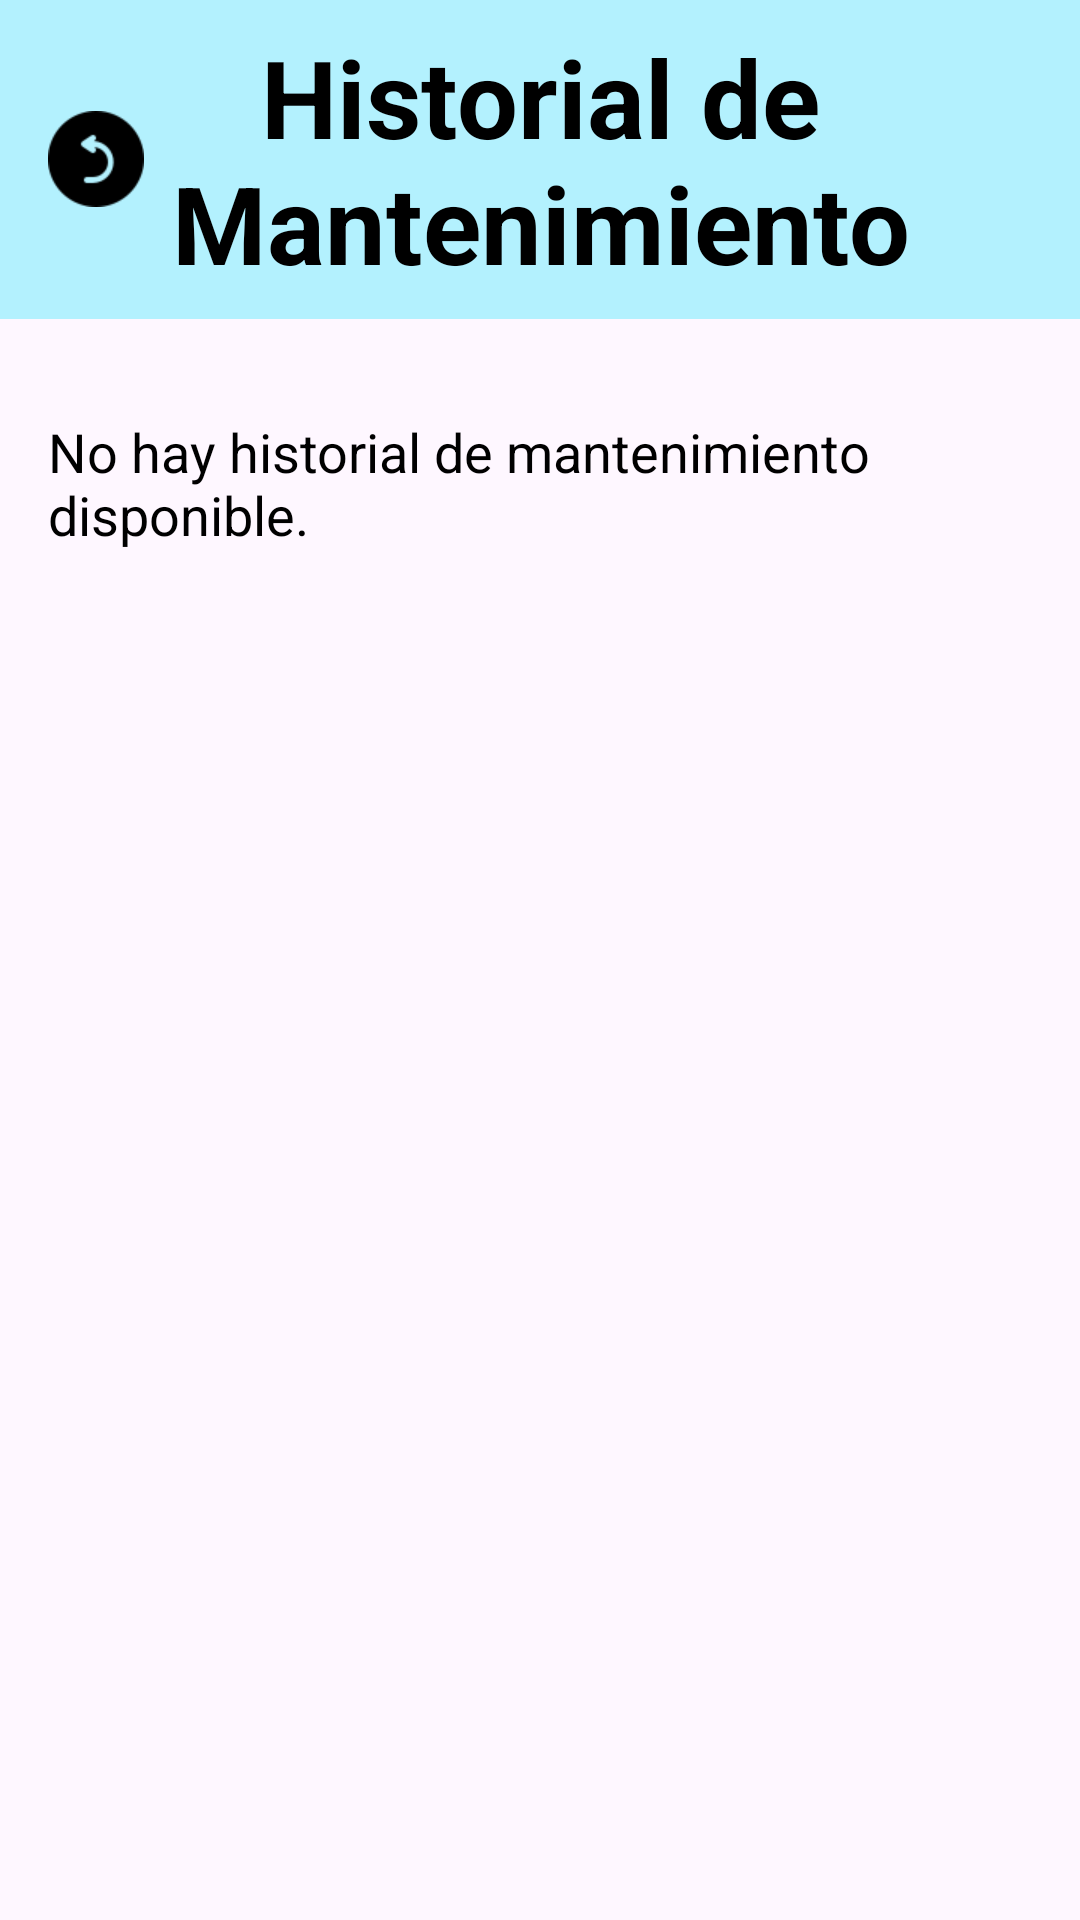

Where to tap for icons on this 1080w x 1920h app screen, as [x,y]:
Regresar: [96,159]
